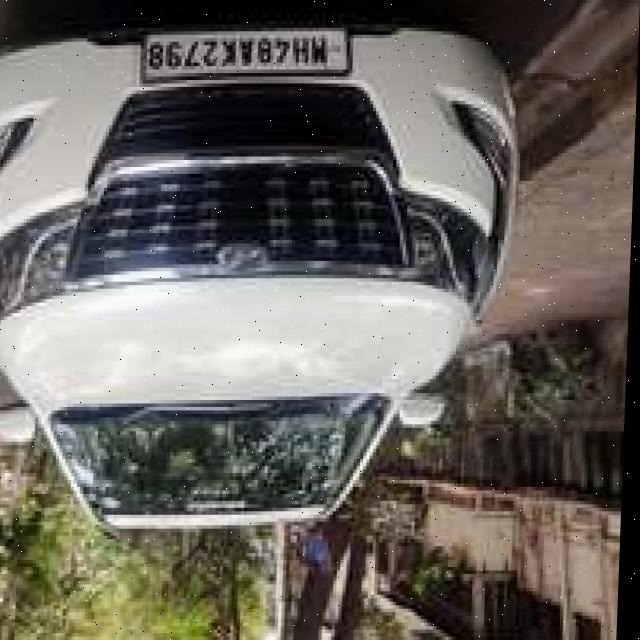plate: (139, 22, 352, 84)
